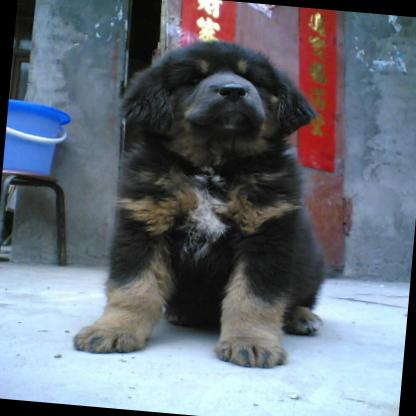Tibetan_mastiff: (70, 28, 346, 372)
